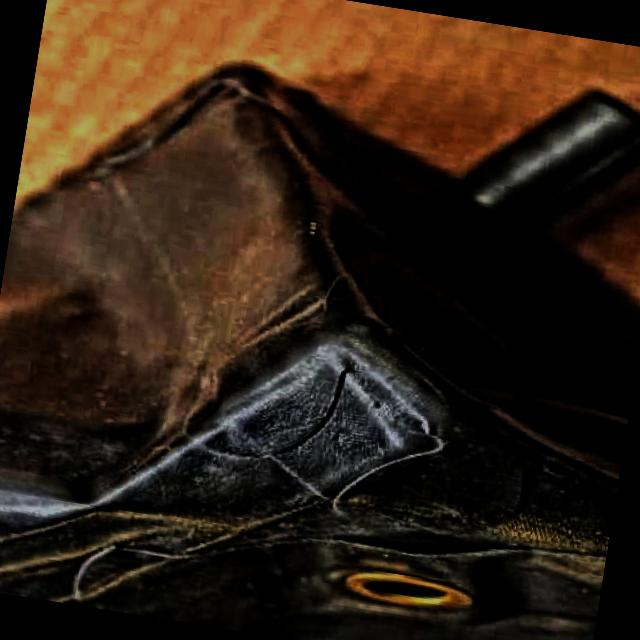crack: (286, 318, 410, 462)
